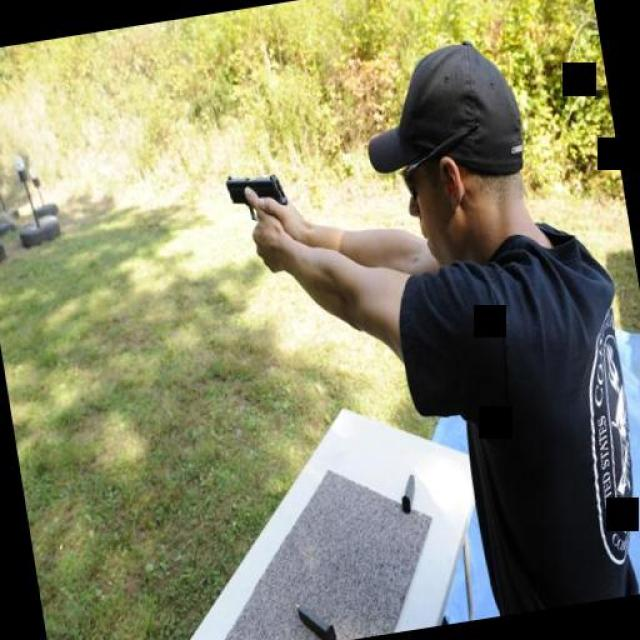gun: (218, 158, 288, 238)
